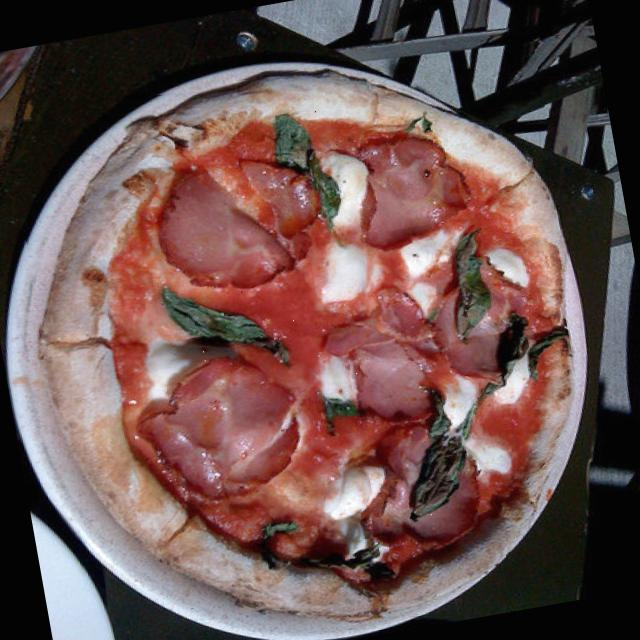basil: (386, 363, 522, 520), (142, 271, 302, 387), (272, 97, 346, 240), (428, 222, 504, 344), (468, 307, 574, 394), (242, 504, 310, 580), (300, 535, 392, 590), (312, 384, 366, 436)
cheese: (293, 462, 402, 572), (432, 364, 526, 486), (308, 136, 390, 249), (447, 342, 552, 424), (384, 218, 471, 302), (307, 235, 390, 313), (304, 344, 371, 420), (476, 234, 543, 299)
pizza: (40, 71, 581, 625)
